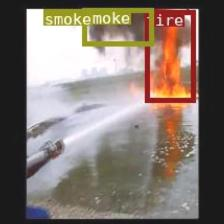fire: (144, 10, 195, 102)
smoke: (81, 6, 153, 44), (43, 9, 77, 24)
